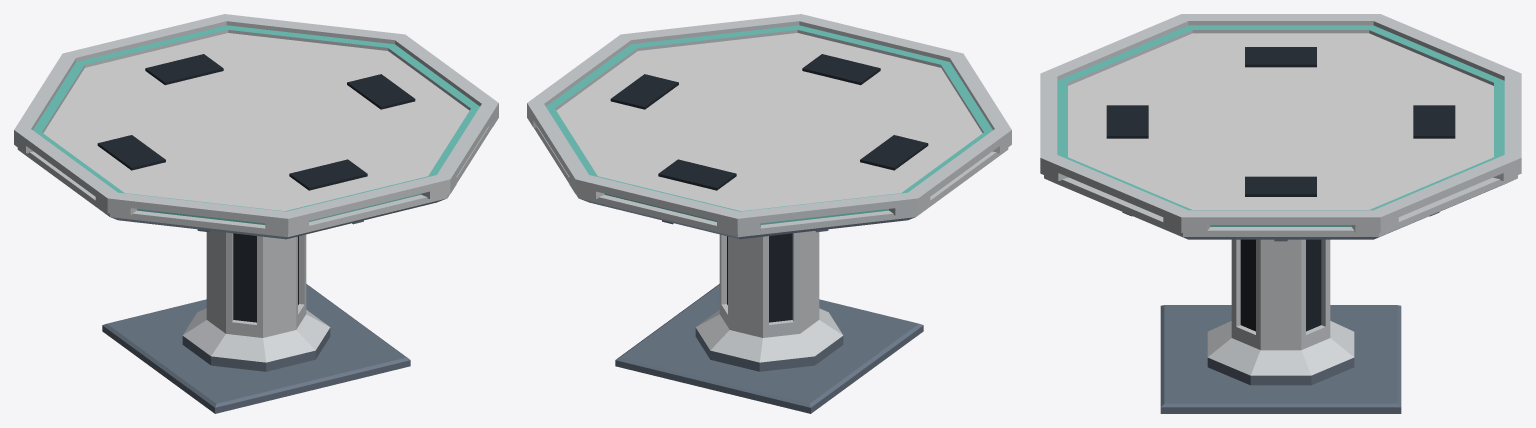
Rendered from elevated-landing-pad-7279fb.glb.
3 views of the same model, side by side, from view 1: azimuth 30°, elevation 25°; view 2: azimuth 150°, elevation 25°; view 3: azimuth 270°, elevation 25° (orthographic). The views are drawn at different scales.
Visible parts, largest first — view 1: landing-pad; view 2: landing-pad; view 3: landing-pad.
Boxes of the visible parts, x1,y1,x2,y2 form: landing-pad: [14, 14, 498, 413]; landing-pad: [527, 14, 1011, 413]; landing-pad: [1040, 14, 1521, 413].
Bounding box in the file's own units: 8 × 4.54 × 8.
